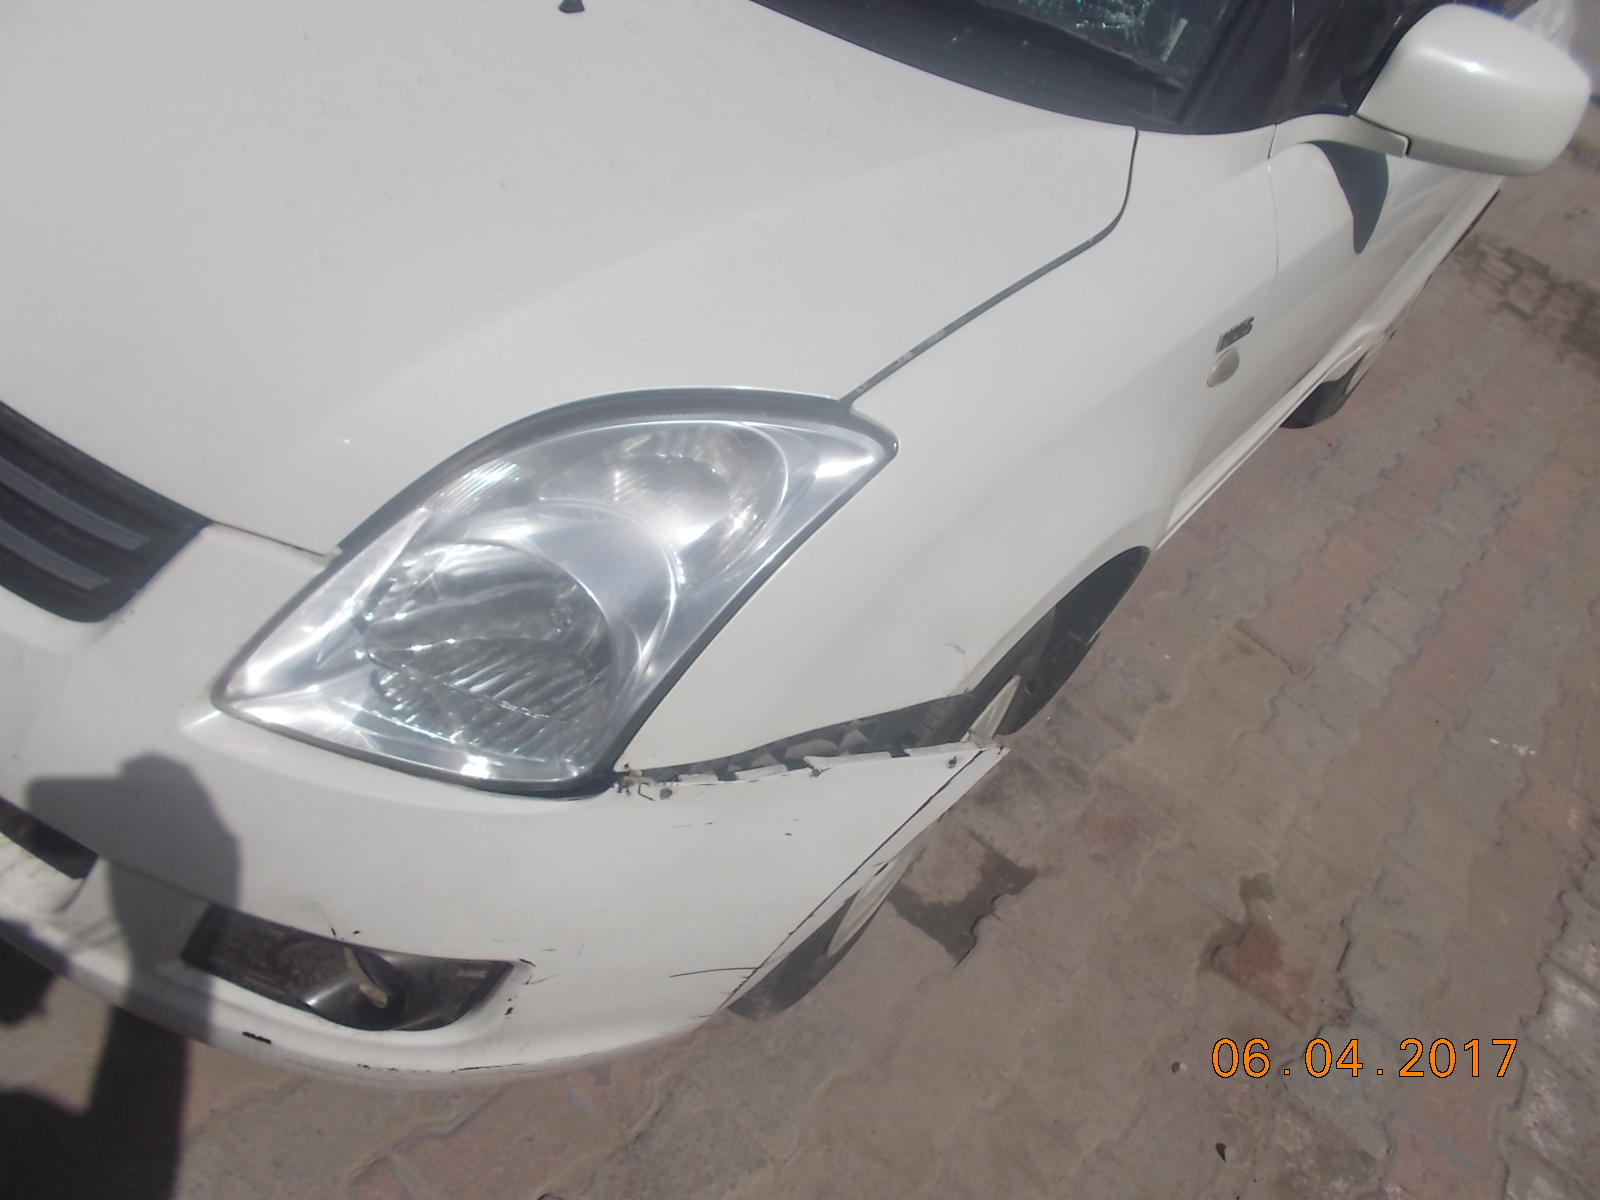Dislocation: (723, 683, 1003, 812)
